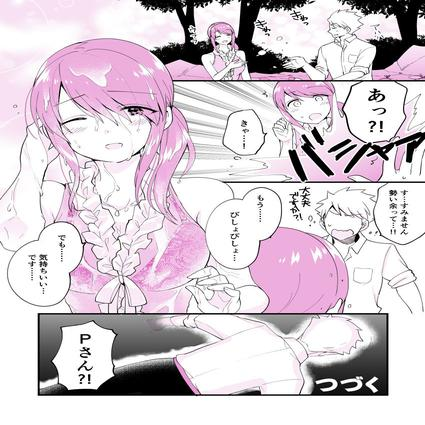bubble: (7, 223, 88, 306), (207, 188, 280, 266), (50, 321, 116, 390), (342, 82, 407, 142), (375, 183, 424, 245), (224, 109, 268, 155)
